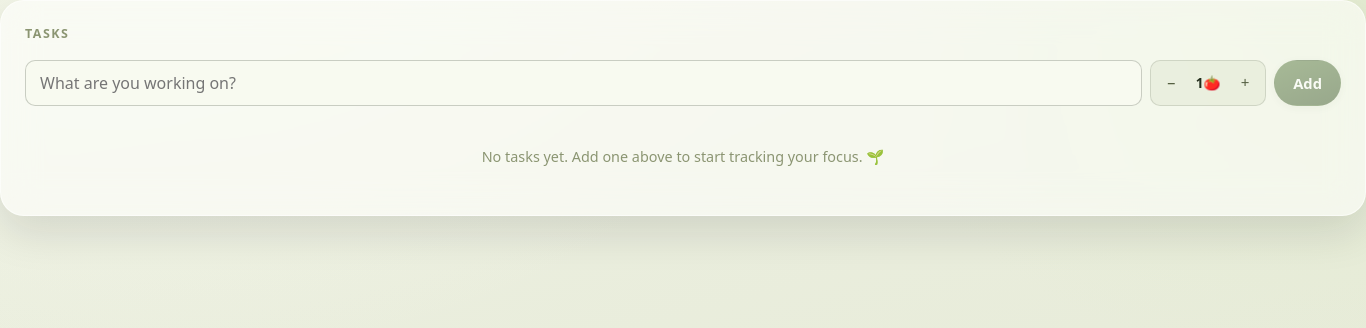
Test: TaskList › completes a task (and clears it if it was active)
The width and height of the screenshot is (1366, 328).
Type "Ship it" into the field named "New task title". click: x=584, y=83
box: [25, 60, 1142, 106]
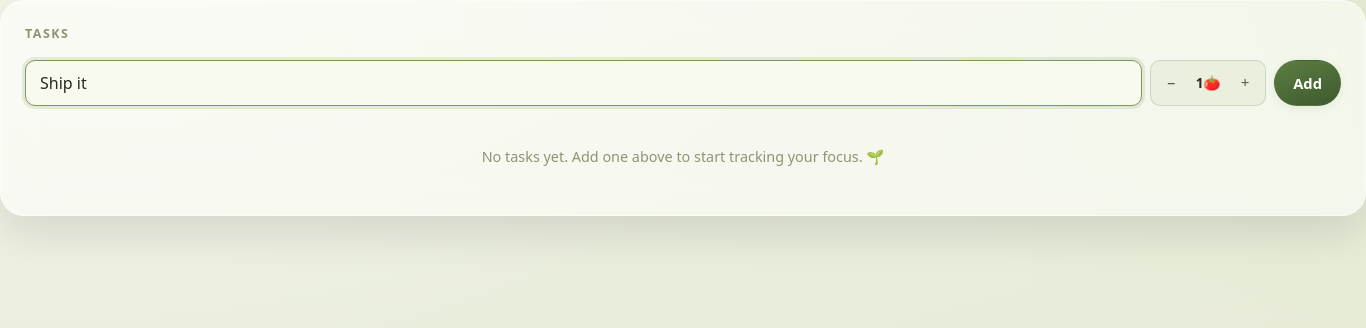
Click the button "Add". click: x=1308, y=83
box: [1274, 60, 1341, 106]
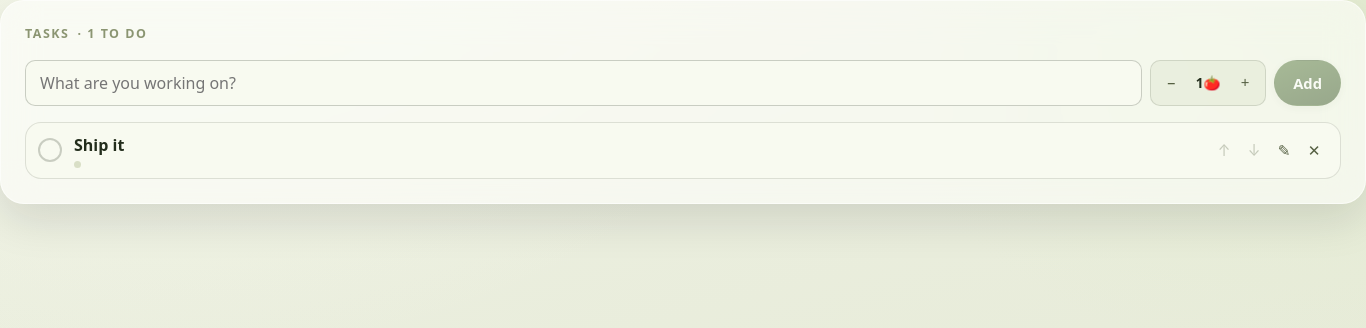
Click the button named "Mark task as done". click: x=50, y=150
box: [38, 138, 62, 162]
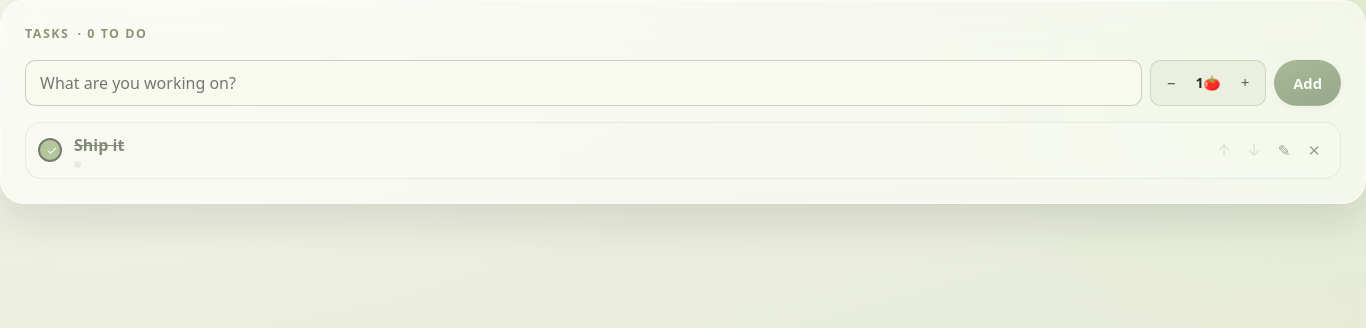
Check: the button named "Mark task as not done" is shown, box [38, 138, 62, 162]
